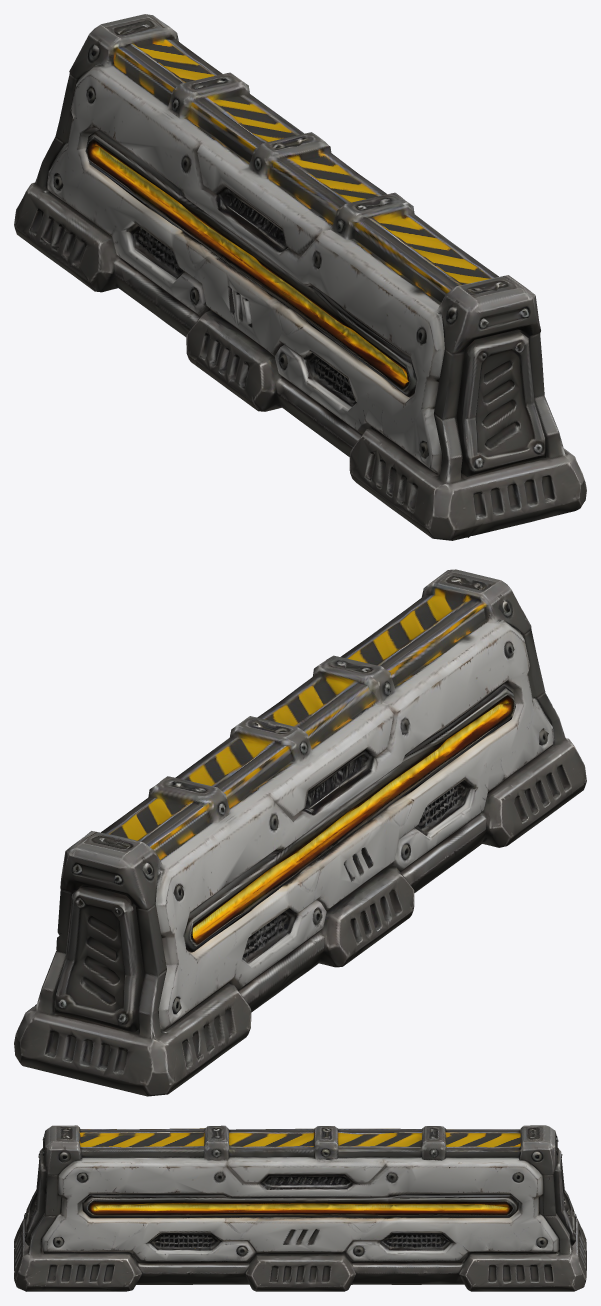
Rendered from prop_barrier.glb.
3 renders of one model, top to bottom at view 1: azimuth 30°, elevation 25°; view 2: azimuth 150°, elevation 25°; view 3: azimuth 270°, elevation 25°, orthographic. The views are drawn at different scales.
Parts seen in each view (by area): view 1: tripo_node_4c60a58e-6751-497d-9133-d639359fb223; view 2: tripo_node_4c60a58e-6751-497d-9133-d639359fb223; view 3: tripo_node_4c60a58e-6751-497d-9133-d639359fb223.
Boxes of the visible parts, box(x1,y1,x2,y2) form: tripo_node_4c60a58e-6751-497d-9133-d639359fb223: box(14, 14, 586, 540); tripo_node_4c60a58e-6751-497d-9133-d639359fb223: box(14, 569, 586, 1096); tripo_node_4c60a58e-6751-497d-9133-d639359fb223: box(14, 1125, 586, 1291).
Bounding box in the file's own units: 0.2095 × 0.2635 × 0.9794.
Materials: 1 (1 with a texture image).
